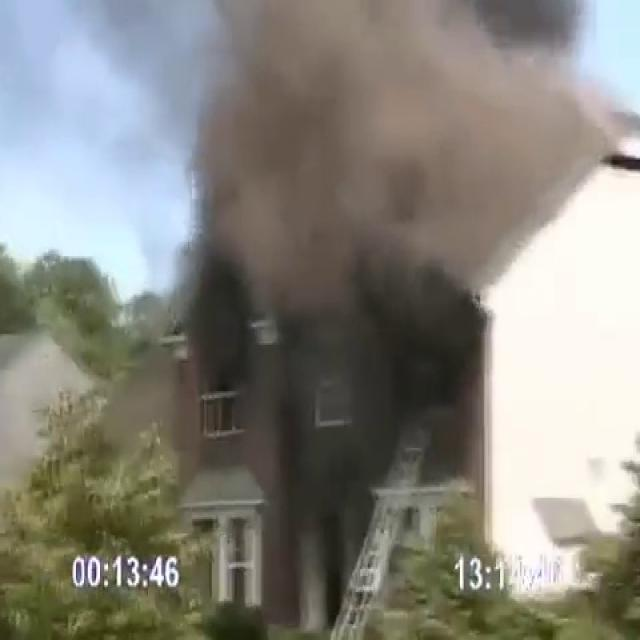Smoke: (158, 0, 629, 590)
